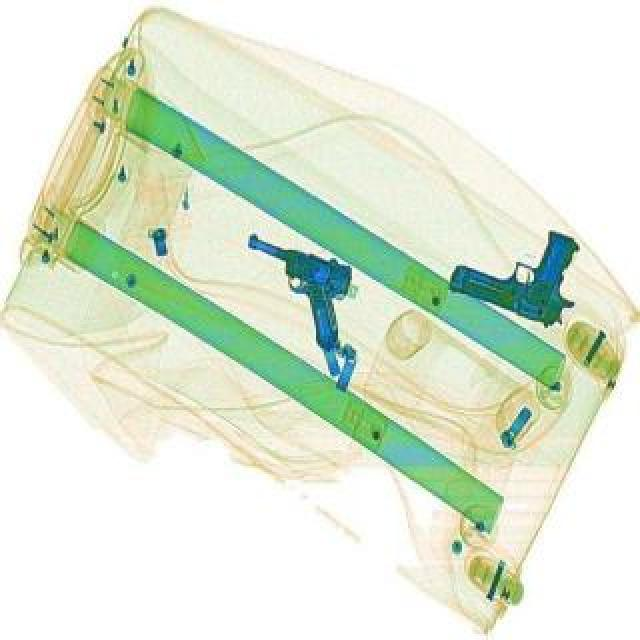gun: (446, 202, 598, 330), (214, 226, 368, 350)
